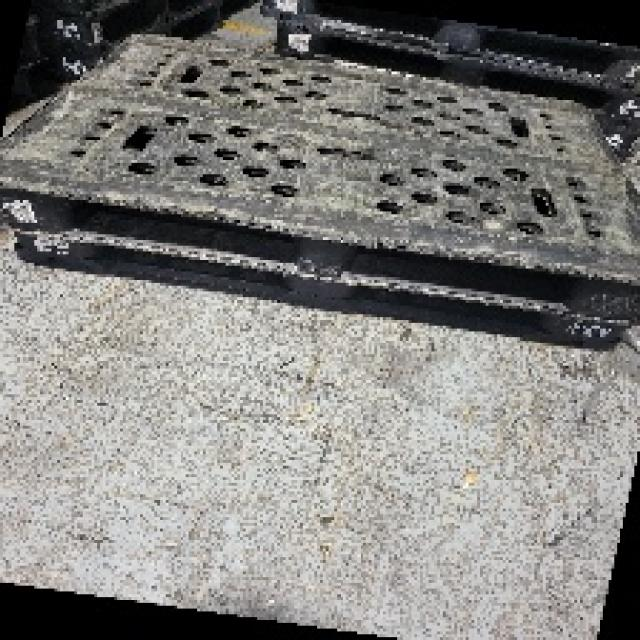igps: (0, 25, 640, 337), (6, 222, 635, 356)
